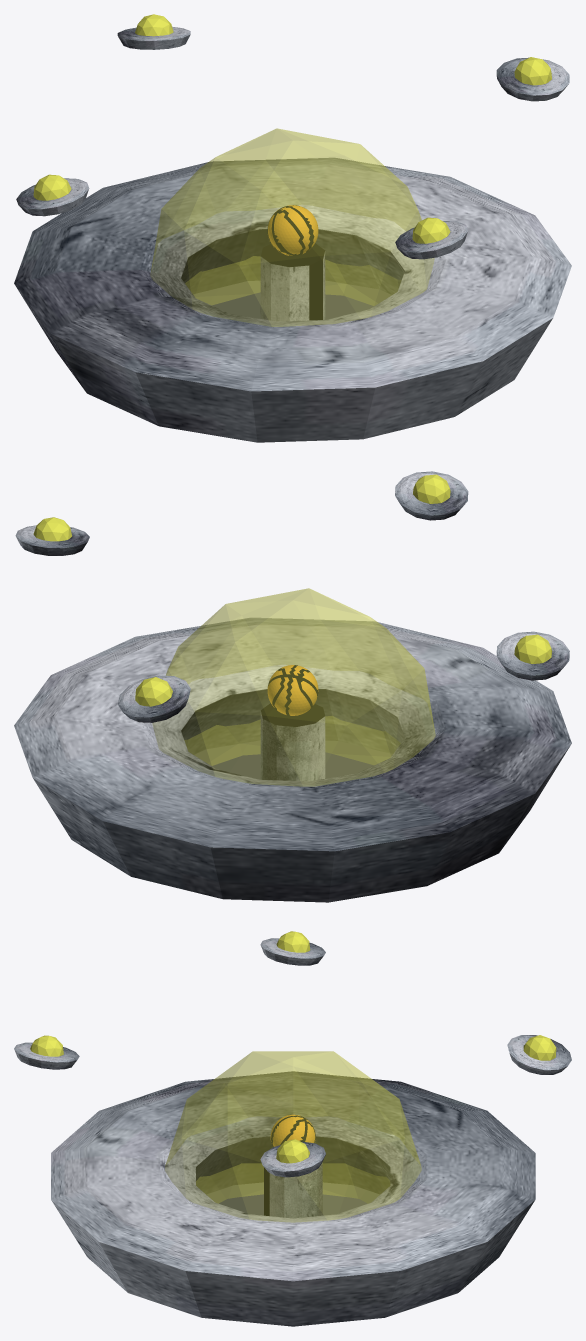
File: ufomap.fbx
3 renders of one model, top to bottom at view 1: azimuth 30°, elevation 25°; view 2: azimuth 150°, elevation 25°; view 3: azimuth 270°, elevation 25°, orthographic. The views are drawn at different scales.
Visible parts, largest first — view 1: Icosphere, Icosphere.003, Icosphere.002, Icosphere.004, Icosphere.001; view 2: Icosphere, Icosphere.002, Icosphere.004, Icosphere.001, Icosphere.003; view 3: Icosphere, Icosphere.001, Icosphere.003, Icosphere.004, Icosphere.002.
Part boxes in pixels (x1,y1,x2,y2): Icosphere: (14, 128, 571, 442); Icosphere.003: (496, 57, 569, 101); Icosphere.002: (395, 217, 467, 259); Icosphere.004: (16, 174, 89, 216); Icosphere.001: (117, 14, 190, 49); Icosphere: (14, 588, 571, 902); Icosphere.002: (395, 471, 468, 520); Icosphere.004: (496, 631, 569, 680); Icosphere.001: (117, 675, 190, 722); Icosphere.003: (15, 517, 89, 555); Icosphere: (51, 1051, 535, 1326); Icosphere.001: (507, 1035, 571, 1074); Icosphere.003: (260, 1139, 325, 1177); Icosphere.004: (260, 931, 325, 965); Icosphere.002: (14, 1035, 79, 1069).
Bounding box in the file's own units: 6794 × 3476 × 6794.
Materials: 5 (1 with a texture image).
